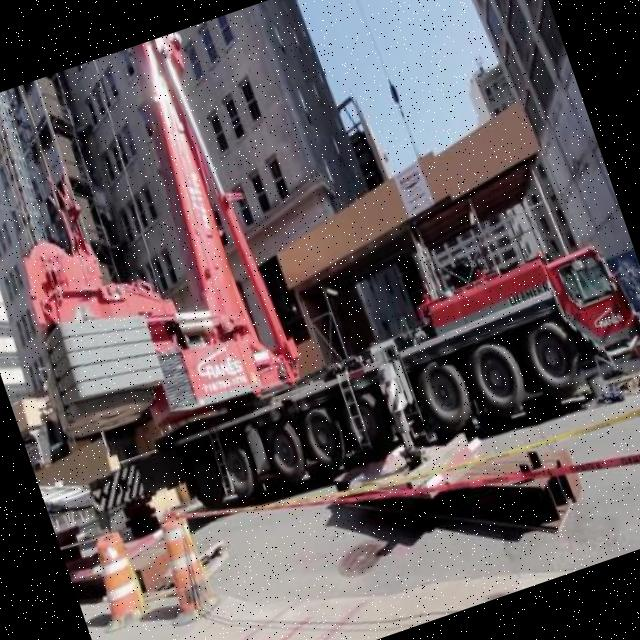Mobile Crane: (0, 0, 640, 559)
